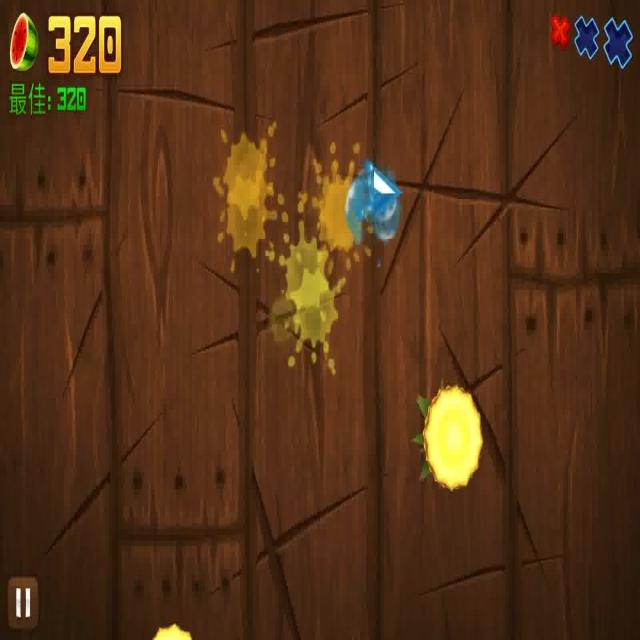fruit: (413, 376, 480, 499), (155, 613, 194, 640)
